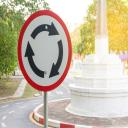Rotatoria: (15, 10, 75, 91)
